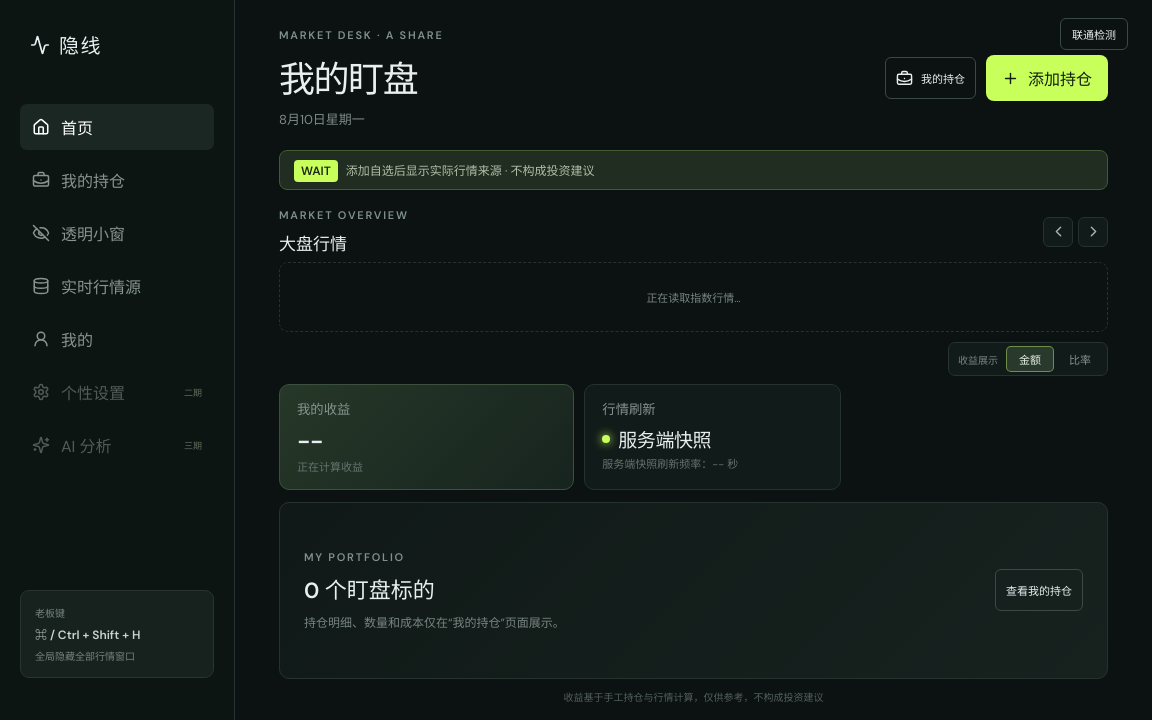
Scenario: Dashboard › 从首页新增成功后跳转我的持仓并刷新共享查询
Click the button "添加持仓" at (1047, 78), box [986,55,1108,101]
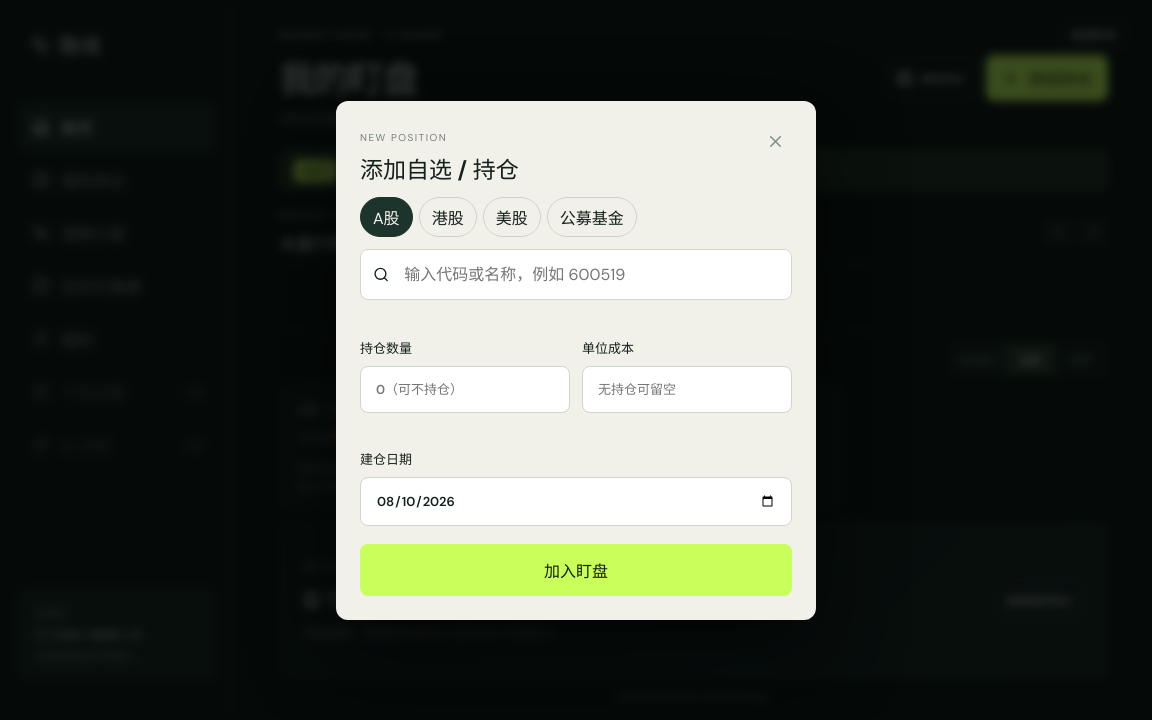
Type "600519" into the field with placeholder "输入代码或名称，例如 600519" at (590, 274), box [389,250,791,298]
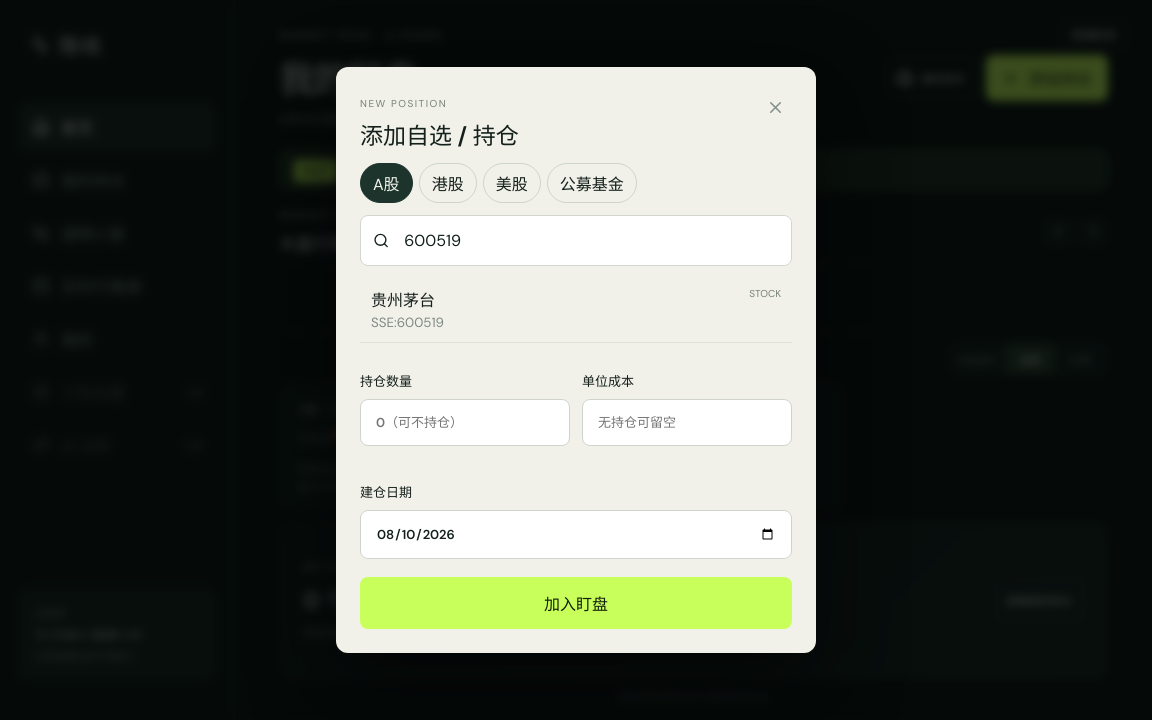
Click the text "贵州茅台" at (408, 299), box [371,287,444,311]
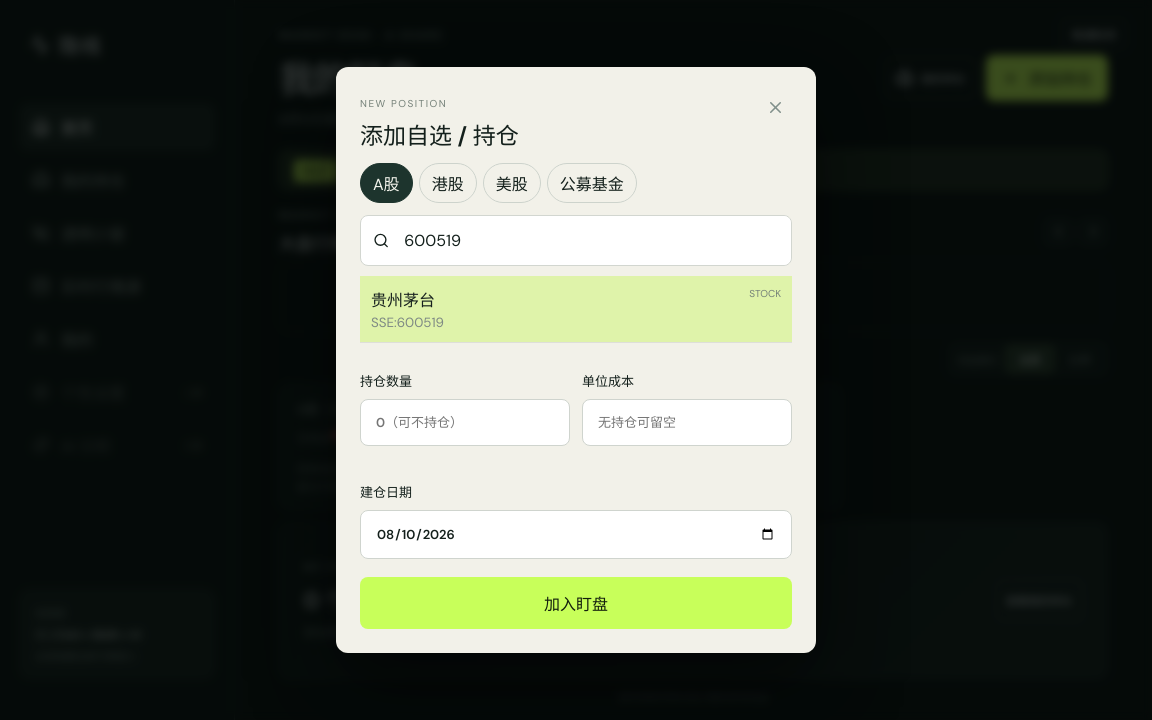
Click the button "加入盯盘" at (576, 603), box [360,577,792,629]
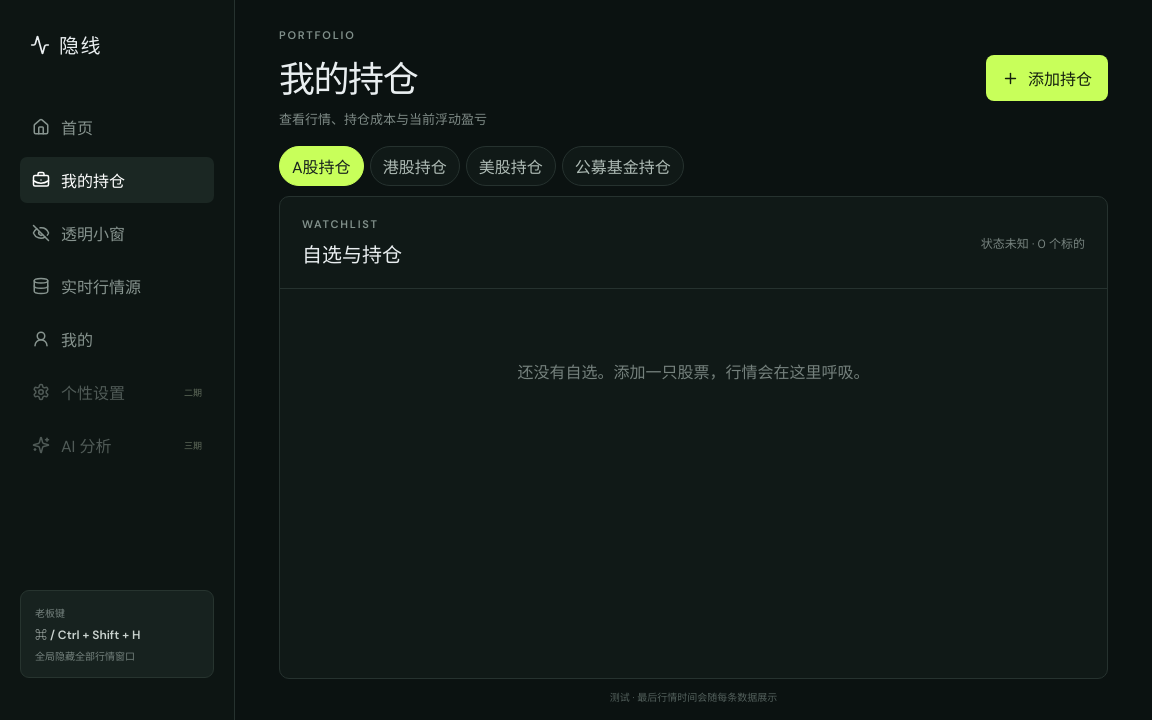
Expected: the heading "我的持仓" is shown, [279,56,417,103]
